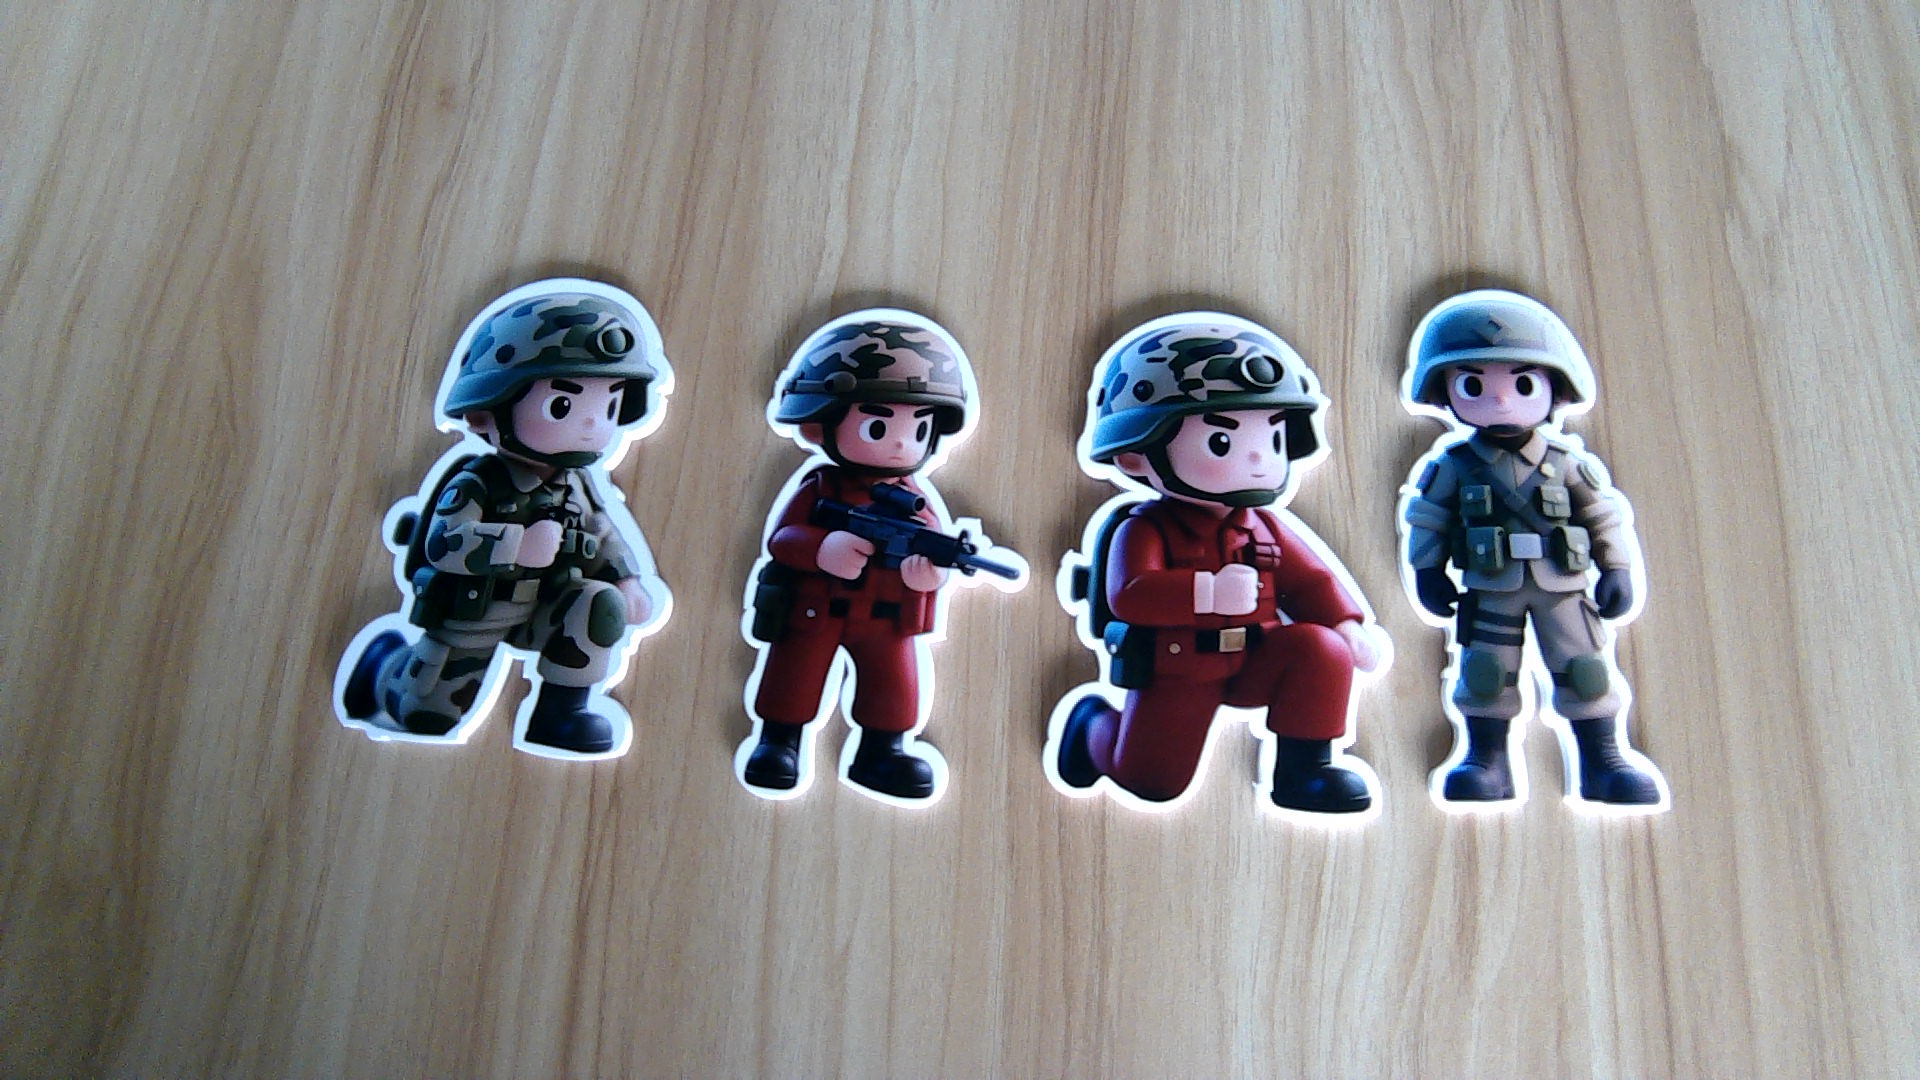友军: (1394, 426, 1676, 822), (323, 456, 671, 765)
敌人1: (1043, 501, 1396, 831), (731, 465, 1029, 807)
